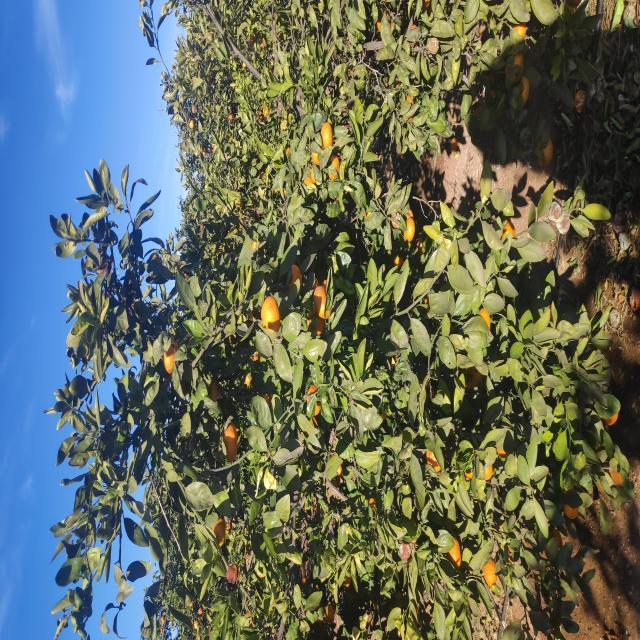Jeruk Sudah Matang: (307, 260, 344, 280), (178, 222, 218, 238), (558, 504, 588, 524), (53, 480, 84, 498), (321, 314, 355, 330), (71, 446, 104, 462), (82, 544, 111, 562), (304, 308, 336, 324), (266, 163, 300, 178), (93, 211, 124, 226), (346, 287, 376, 302), (121, 564, 151, 579), (224, 307, 256, 321), (168, 426, 190, 442), (608, 376, 634, 389), (490, 320, 518, 332), (362, 148, 388, 160), (518, 403, 546, 414), (240, 208, 264, 220), (154, 608, 172, 624), (398, 403, 422, 415), (460, 328, 486, 339), (215, 600, 230, 618), (600, 511, 618, 526), (537, 520, 564, 530), (310, 479, 332, 491), (411, 390, 433, 402), (399, 502, 418, 514), (593, 410, 616, 418), (182, 496, 194, 511), (159, 483, 176, 493), (15, 326, 36, 334), (345, 310, 363, 319), (474, 312, 490, 321), (13, 245, 30, 253), (372, 394, 385, 404), (232, 262, 248, 270), (74, 242, 88, 251), (385, 417, 406, 423), (96, 412, 120, 417), (52, 343, 65, 352), (418, 405, 432, 413), (456, 311, 474, 317), (214, 308, 224, 318), (594, 248, 606, 256), (255, 245, 268, 252), (454, 303, 464, 312), (420, 364, 430, 372), (330, 424, 343, 430), (456, 260, 469, 266), (161, 464, 169, 473), (522, 262, 534, 268), (346, 322, 360, 327), (164, 337, 176, 342), (389, 251, 399, 257), (569, 242, 578, 248), (484, 285, 494, 290), (274, 392, 286, 396), (278, 252, 285, 258), (12, 194, 20, 199), (25, 198, 33, 203), (486, 209, 494, 214), (34, 188, 40, 194), (608, 392, 620, 395), (16, 161, 24, 165), (517, 228, 525, 232), (512, 190, 520, 193), (56, 302, 62, 306), (484, 203, 492, 206), (8, 161, 12, 163)
